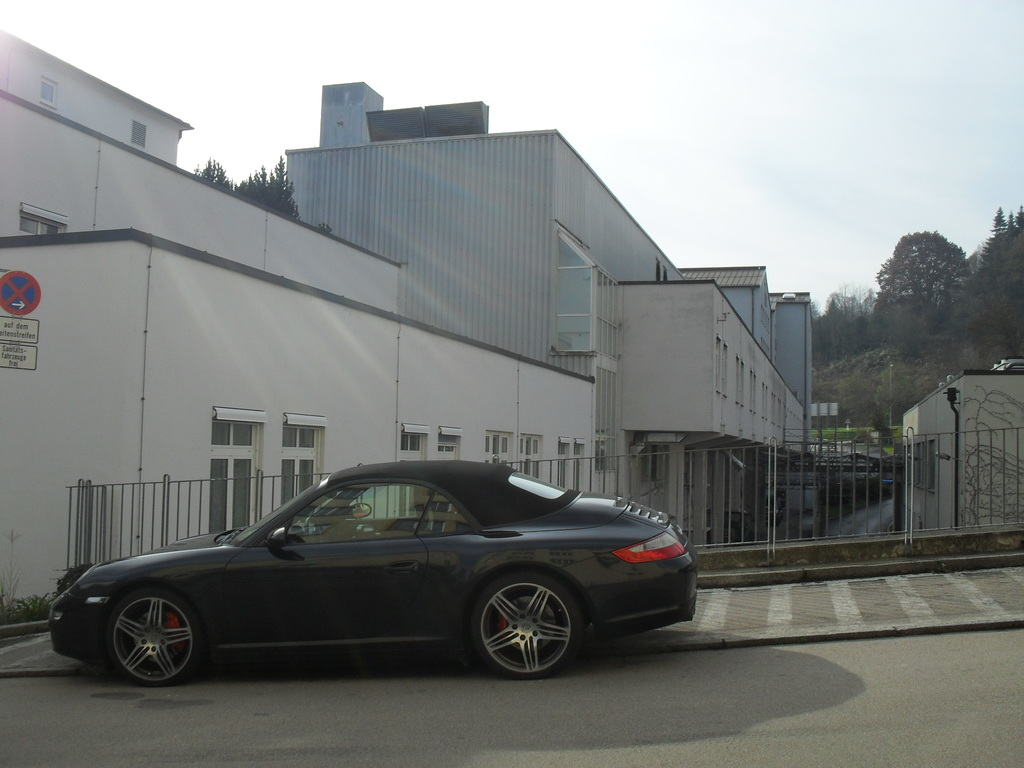car: (33, 432, 727, 714)
